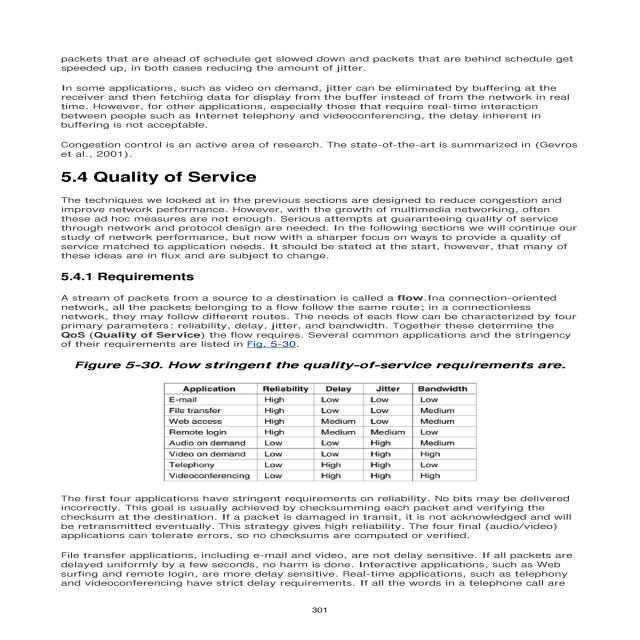diagram: (54, 352, 591, 488)
